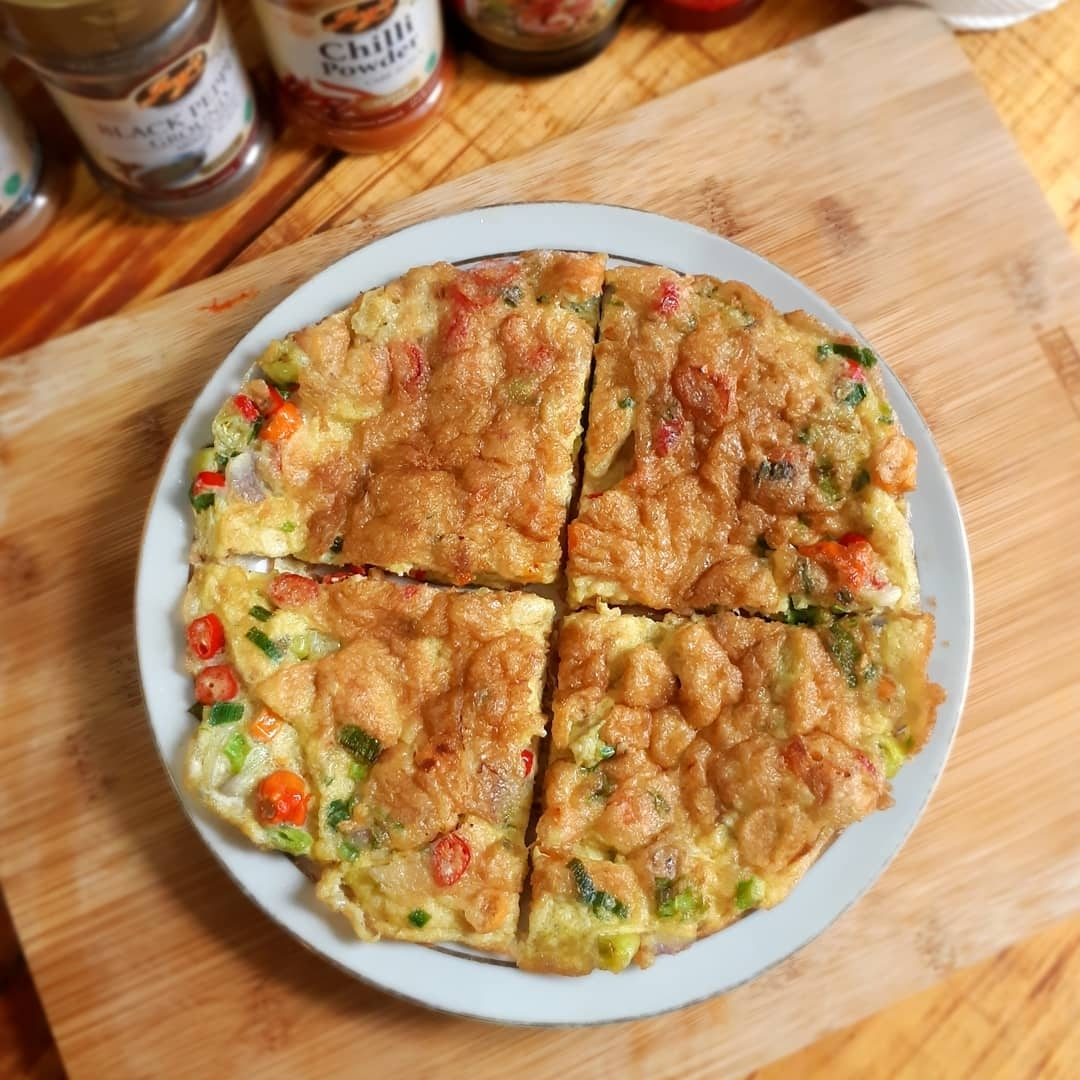Telur: (219, 243, 641, 560), (170, 581, 559, 923), (555, 601, 893, 955), (569, 309, 896, 641)
